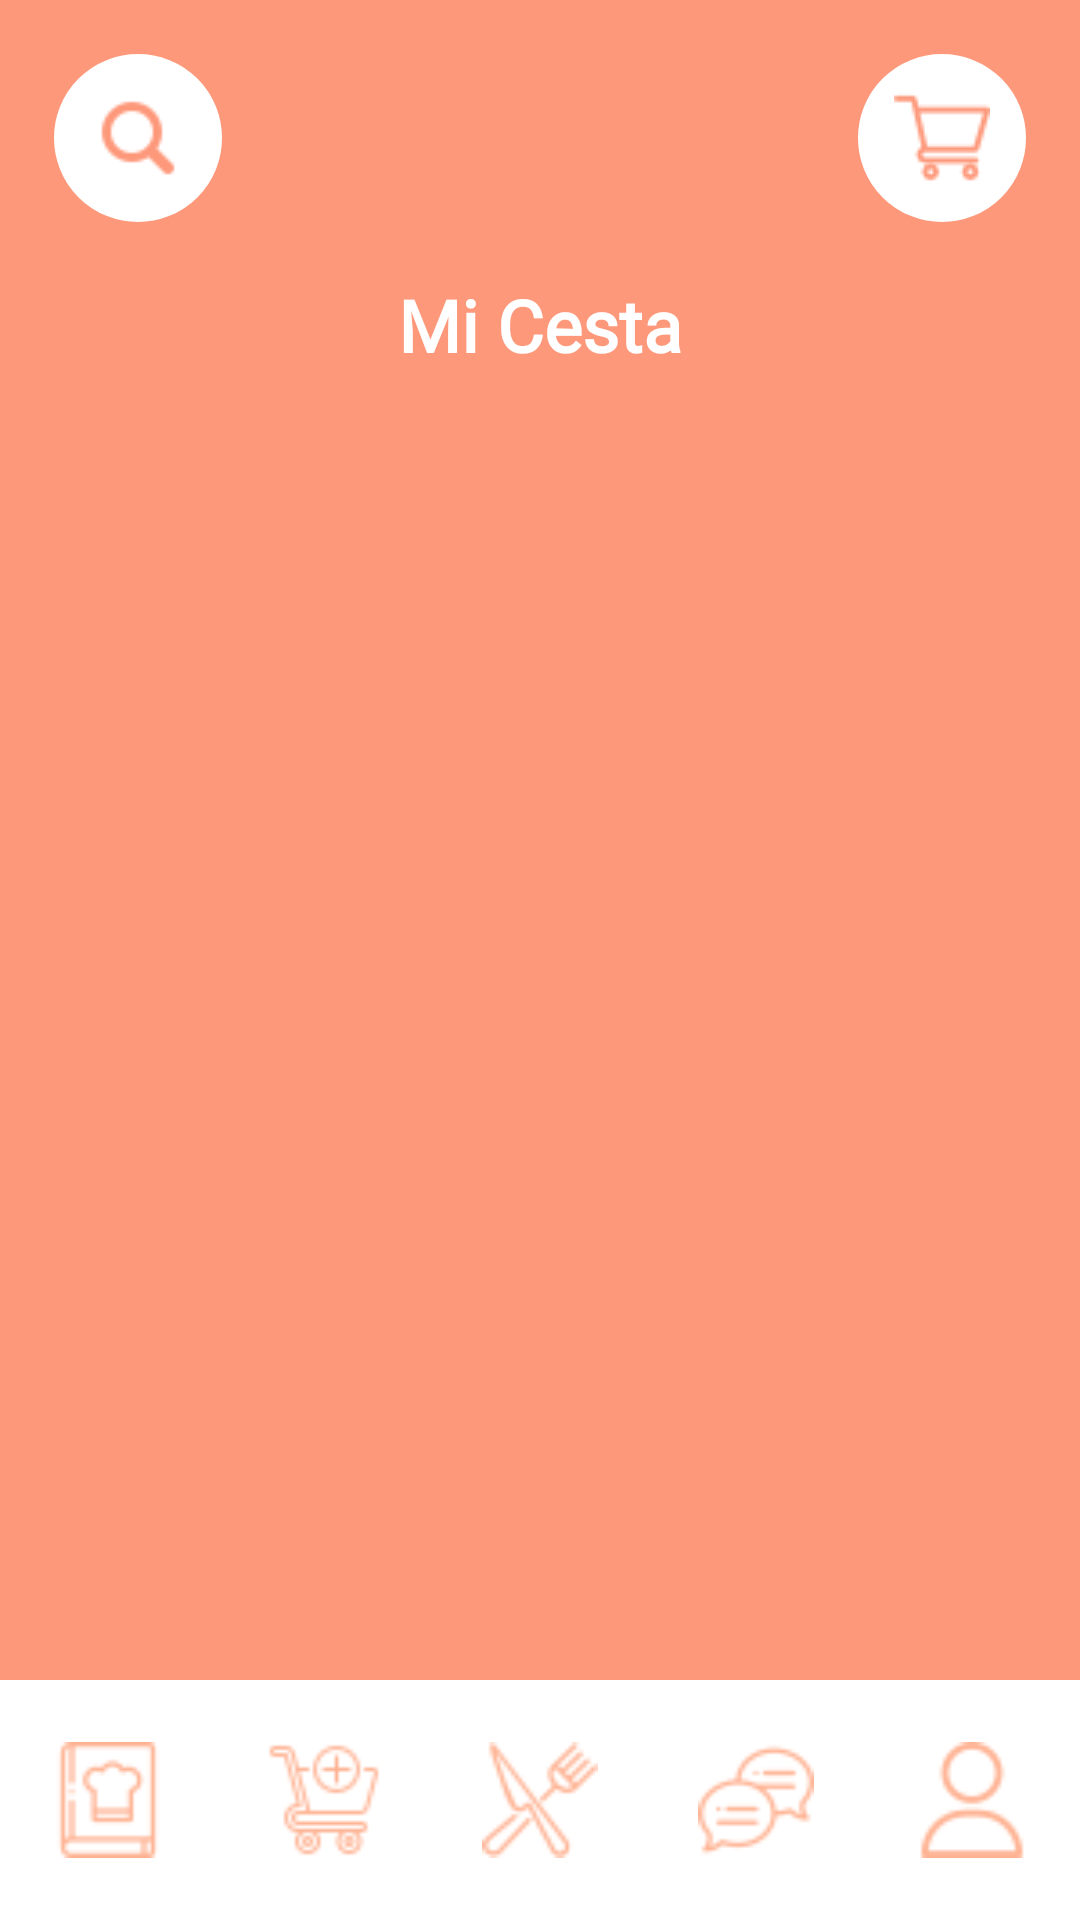

Icons on this 1080×1920 Android screen, each with the point to tap as (x=x, y=y):
carrito de compras: (x=942, y=138)
lupa: (x=138, y=138)
